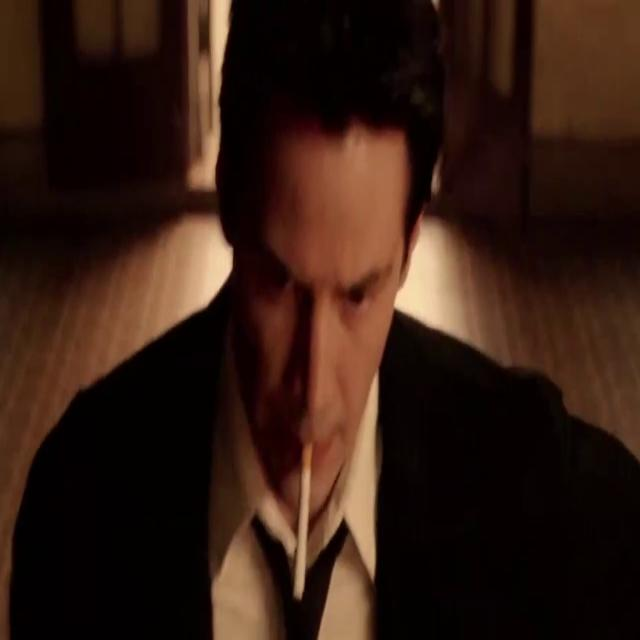Smooking: (295, 440, 320, 600)
